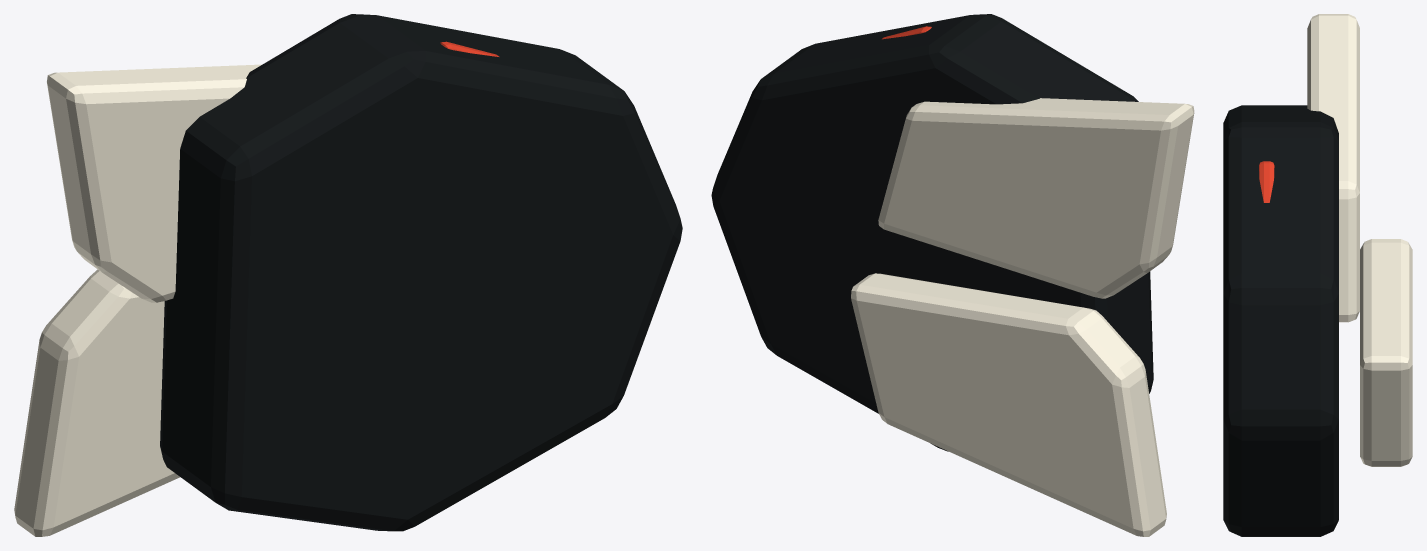
The picture shows the model from 3 angles, left to right: view 1: azimuth 30°, elevation 25°; view 2: azimuth 150°, elevation 25°; view 3: azimuth 270°, elevation 25°; orthographic projection. The views are drawn at different scales.
Parts seen in each view (by area): view 1: 8 compact twin-tail fish, 8 enormous split tail lower, 8 enormous split tail upper; view 2: 8 compact twin-tail fish, 8 enormous split tail lower, 8 enormous split tail upper; view 3: 8 compact twin-tail fish, 8 enormous split tail lower, 8 enormous split tail upper, 8 cinnabar forehead.
Part boxes in pixels (box(x1,y1,x2,y2)): 8 compact twin-tail fish: box(160, 14, 682, 531); 8 enormous split tail lower: box(14, 269, 180, 536); 8 enormous split tail upper: box(47, 64, 261, 302); 8 compact twin-tail fish: box(711, 14, 1153, 451); 8 enormous split tail lower: box(851, 273, 1166, 536); 8 enormous split tail upper: box(878, 98, 1194, 298); 8 compact twin-tail fish: box(1223, 105, 1338, 536); 8 enormous split tail lower: box(1360, 239, 1412, 466); 8 enormous split tail upper: box(1307, 14, 1359, 322); 8 cinnabar forehead: box(1259, 161, 1274, 202).
Size of the model in its own units: 1 by 0.8063 by 0.36.
